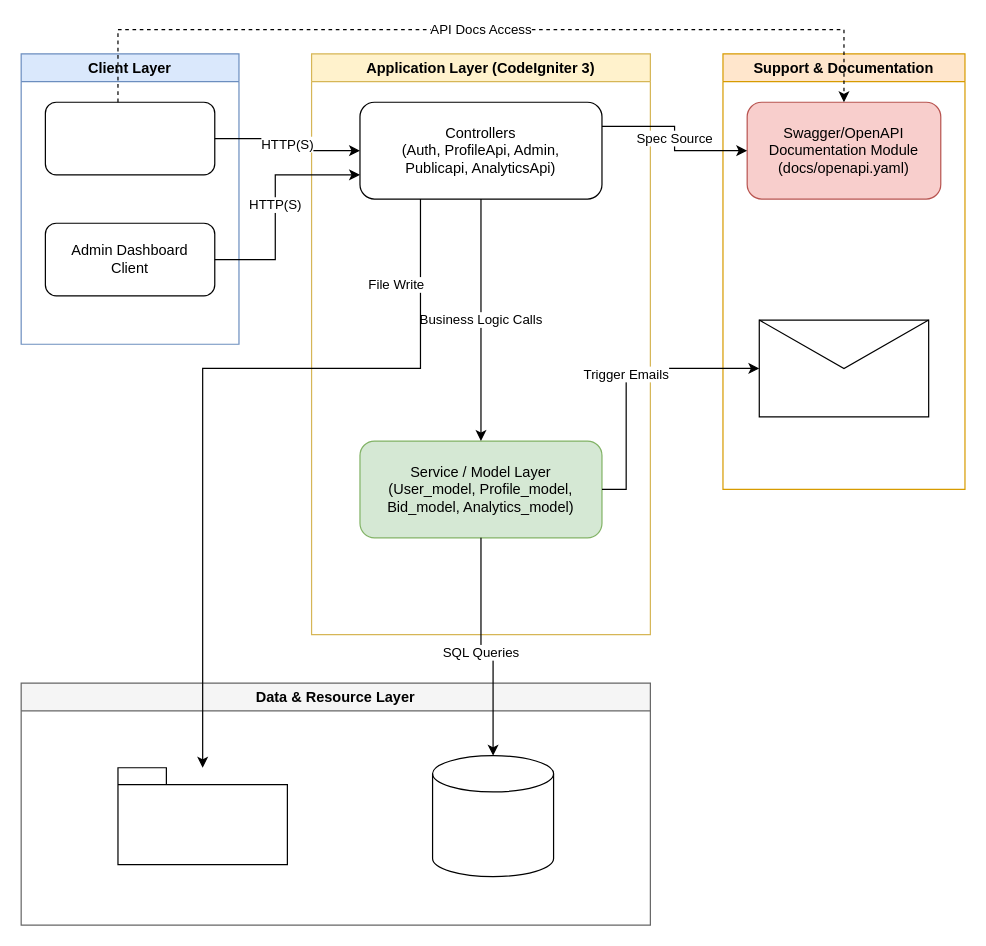
The diagram is 986 pixels wide and 946 high, and some of its shapes have lost their labels. The shapes that lost their labels are listed below. From the top down, each one's centre as x and y in pixels, then its label:
the point at 129,138: Web Browser (Alumni Client)
the point at 843,368: Mail Handling (SMTP / CI Email)
the point at 202,816: File Upload Storage (/uploads)
the point at 492,815: MySQL Database
